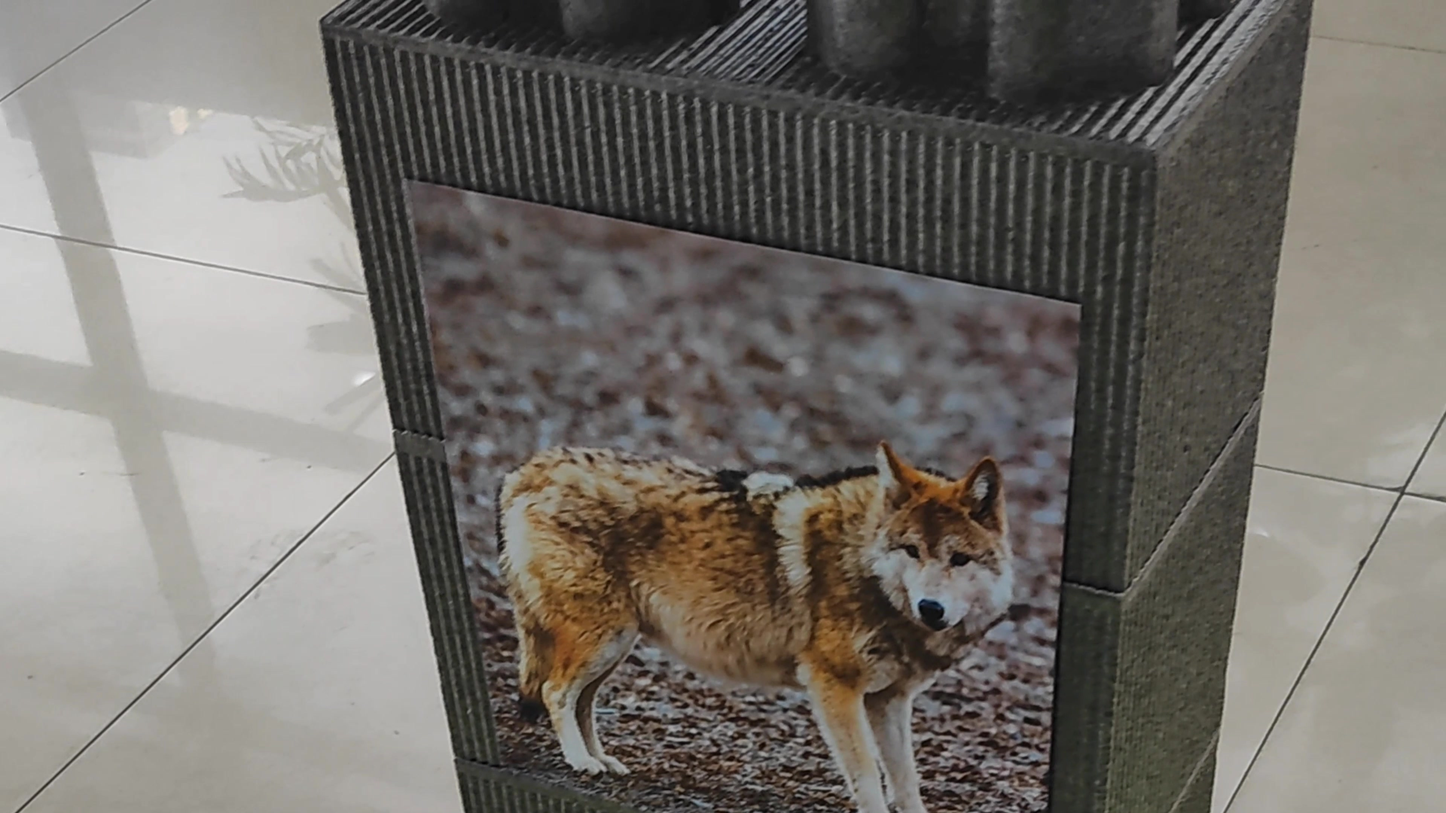wolf: (451, 322, 1036, 812)
